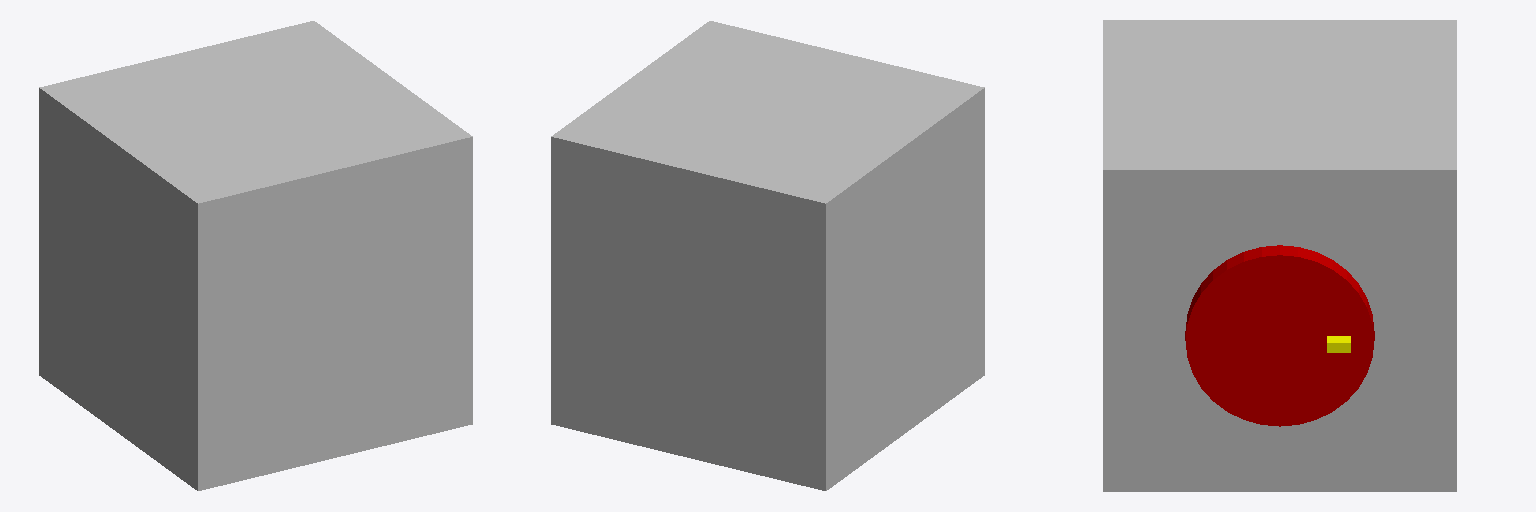
URDF robot description (cubli_1axis):

<robot name="cubli_1axis">

  <material name="gray">
    <color rgba="0.8 0.8 0.8 1.0"/>
  </material>
  <material name="red">
    <color rgba="0.8 0.0 0.0 1.0"/>
  </material>
  <material name="yellow">
    <color rgba="1.0 1.0 0.0 1.0"/>
  </material>

  <link name="base_link">
    <visual>
      <geometry>
        <box size="0.15 0.15 0.15"/>
      </geometry>
      <material name="gray"/>
    </visual>
    <collision>
      <geometry>
        <box size="0.15 0.15 0.15"/>
      </geometry>
    </collision>
    <inertial>
      <mass value="1.0"/>
      <inertia ixx="0.00375" ixy="0.0" ixz="0.0" 
               iyy="0.00375" iyz="0.0" 
               izz="0.00375"/>
    </inertial>
  </link>

  <link name="wheel_link">
    <visual>
      <geometry>
        <cylinder radius="0.04" length="0.01"/>
      </geometry>
      <material name="red"/>
      <origin rpy="0 1.5708 0" xyz="0 0 0"/>
    </visual>
    <collision>
      <geometry>
        <cylinder radius="0.04" length="0.01"/>
      </geometry>
      <origin rpy="0 1.5708 0" xyz="0 0 0"/>
    </collision>
    <inertial>
      <mass value="0.2"/>
      <inertia ixx="0.0001" ixy="0.0" ixz="0.0" 
               iyy="0.0001" iyz="0.0" 
               izz="0.0001"/>
    </inertial>
  </link>

  <link name="marker_link">
    <visual>
      <geometry>
        <box size="0.012 0.01 0.005"/>
      </geometry>
      <material name="yellow"/>
    </visual>
    <inertial>
      <mass value="0.001"/>
      <inertia ixx="0.000001" ixy="0" ixz="0" iyy="0.000001" iyz="0" izz="0.000001"/>
    </inertial>
  </link>

  <joint name="motor_joint" type="continuous">
    <parent link="base_link"/>
    <child link="wheel_link"/>
    <origin xyz="0.08 0 0" rpy="0 0 0"/>
    <axis xyz="1 0 0"/>
  </joint>

  <joint name="marker_fix" type="fixed">
    <parent link="wheel_link"/>
    <child link="marker_link"/>
    <origin xyz="0.006 0.025 0" rpy="0 0 0"/>
  </joint>

</robot>

--- Render facts (derived) ---
3 views of the same robot in one strip: view 1: azimuth 30°, elevation 25°; view 2: azimuth 150°, elevation 25°; view 3: azimuth 270°, elevation 25° (orthographic).
Robot: cubli_1axis — 3 links, 2 joints (1 continuous, 1 fixed); root link base_link; default pose: all joints at 0.
Links seen in each view (by area): view 1: base_link; view 2: base_link; view 3: base_link, wheel_link.
Link boxes in pixels (x1,y1,x2,y2): base_link: (39,21,472,490); base_link: (551,21,984,490); base_link: (1103,20,1456,491); wheel_link: (1185,245,1374,426).
Size in the robot's own frame: 0.167 by 0.15 by 0.15 metres.
Geometry: primitives only (box / cylinder / sphere), no mesh files.
